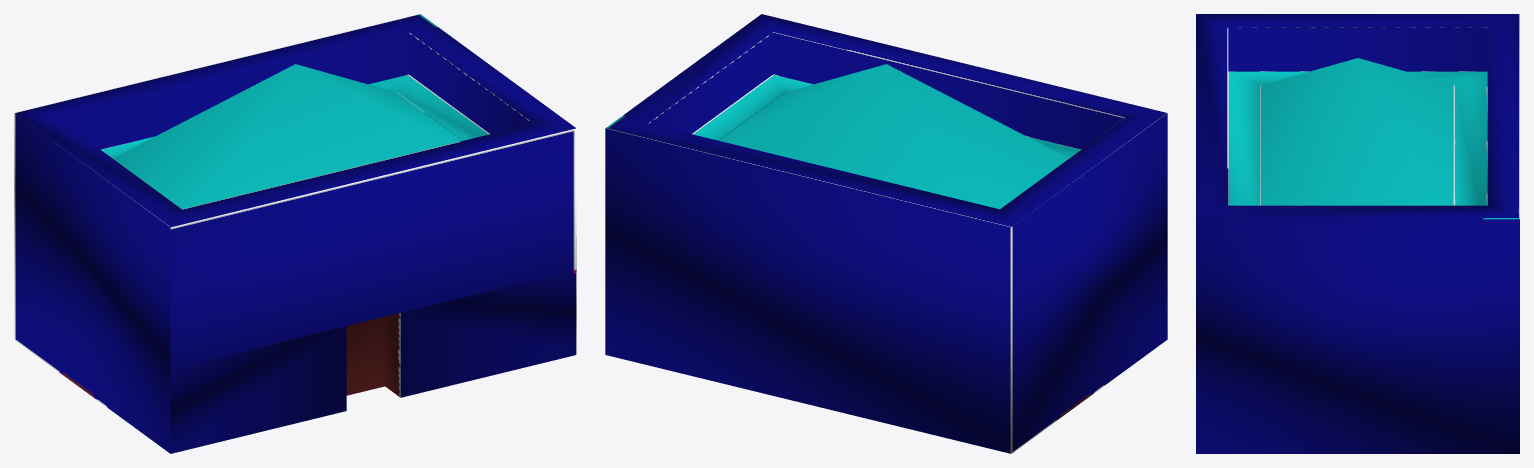
Rendered from Mansion.fbx.
The picture shows the model from 3 angles, left to right: view 1: azimuth 30°, elevation 25°; view 2: azimuth 150°, elevation 25°; view 3: azimuth 270°, elevation 25°; orthographic projection. The views are drawn at different scales.
Parts seen in each view (by area): view 1: Cube; view 2: Cube; view 3: Cube.
Part boxes in pixels (left/top/right/bottom): Cube: left=14, top=14, right=576, bottom=453; Cube: left=605, top=14, right=1167, bottom=453; Cube: left=1196, top=14, right=1519, bottom=453.
Size of the model in its own units: 3 by 2 by 2.
Materials: 1 (1 with a texture image).
